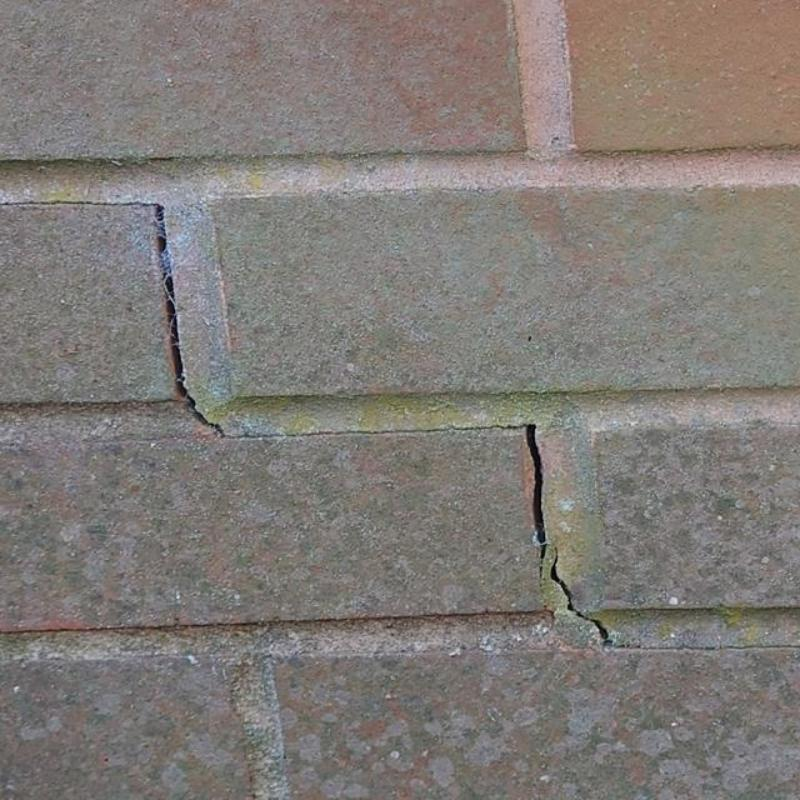crack: (156, 207, 221, 434), (551, 547, 610, 641), (221, 422, 536, 439), (527, 425, 547, 587), (604, 640, 799, 650), (0, 200, 165, 209)
